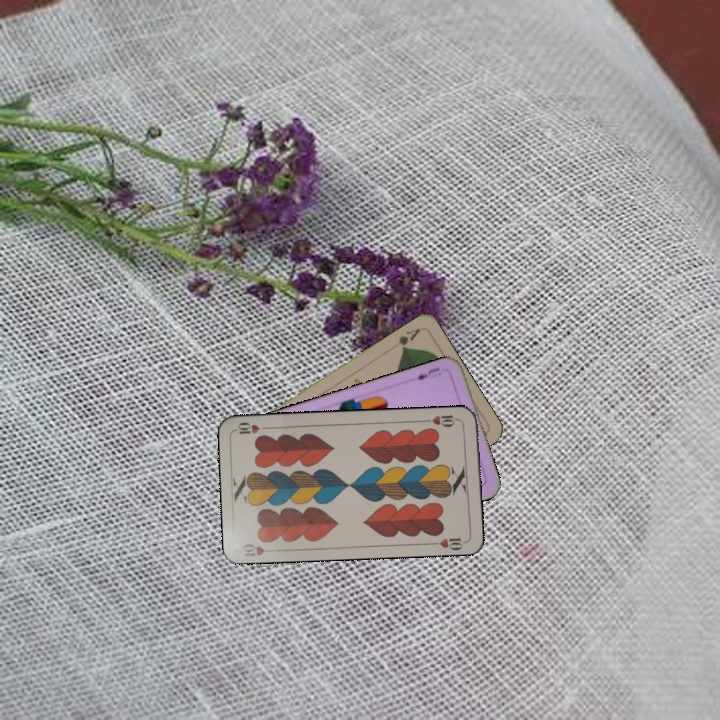EU: (412, 363, 442, 382)
GA: (394, 324, 423, 352)
H10: (421, 410, 462, 430), (238, 539, 279, 559)
